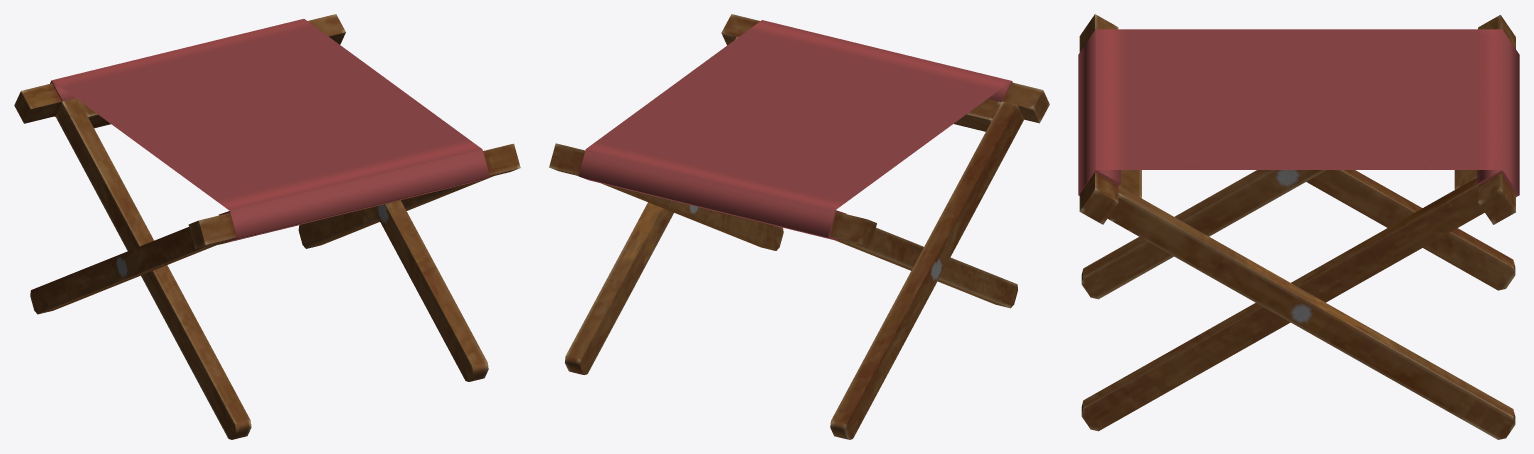
File: pi_chair01.gltf
3 views of the same model, side by side, from view 1: azimuth 30°, elevation 25°; view 2: azimuth 150°, elevation 25°; view 3: azimuth 270°, elevation 25° (orthographic). The views are drawn at different scales.
Parts seen in each view (by area): view 1: pi_chair01; view 2: pi_chair01; view 3: pi_chair01.
Part boxes in pixels (x1,y1,x2,y2): pi_chair01: [14, 14, 520, 439]; pi_chair01: [549, 14, 1049, 439]; pi_chair01: [1078, 14, 1519, 439].
Size of what is drawn, in the model's own units: 0.4989 by 0.3463 by 0.53.
Materials: 1 (1 with a texture image).
